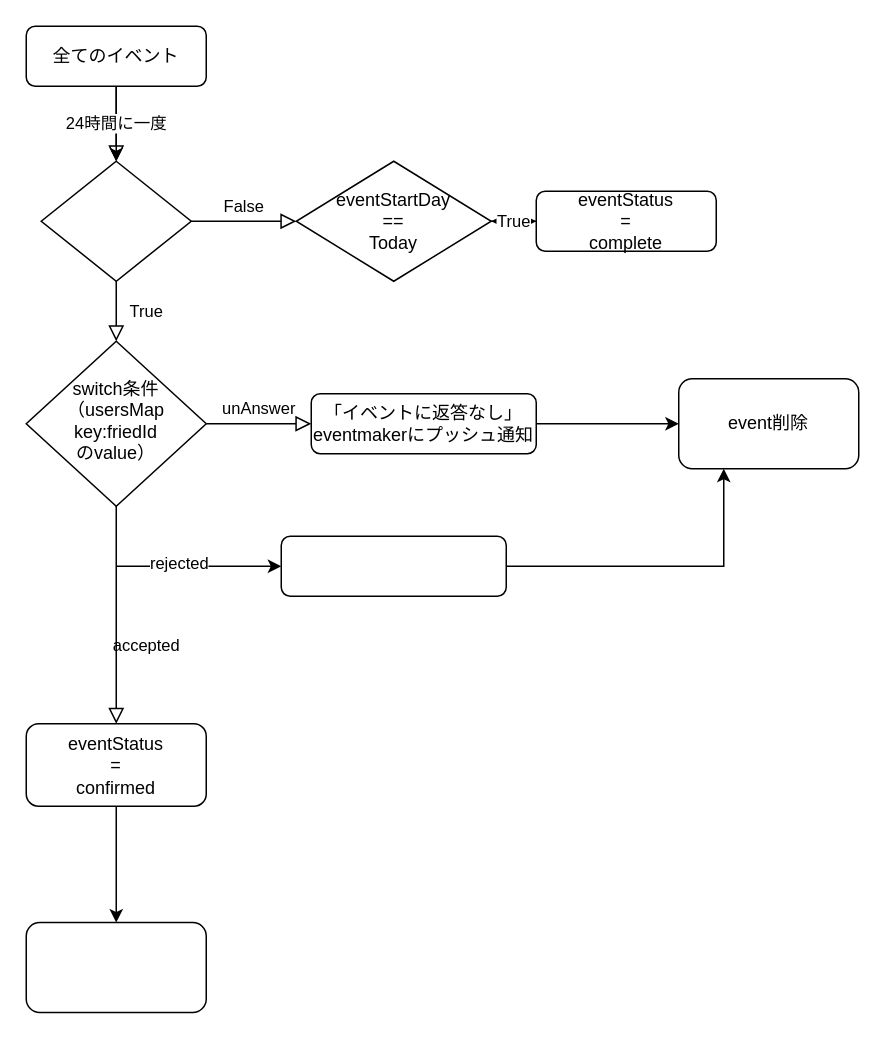
Some shapes in this 885 by 1040 pixel diagram are drawn without their labels. Here are the shapes that lost their labels. From the top down, the centre of each, then its label:
the point at 115,220: eventLimit ==Today
the point at 393,565: 「イベント断られた」 eventmakerにプッシュ通知
the point at 115,966: 「イベントが確定」 イベント参加者全員プッシュ通知
